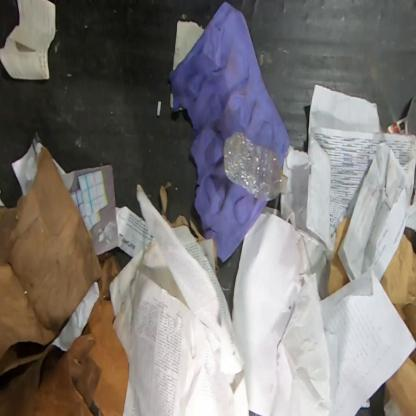cardboard: (383, 347, 415, 415)
rigid_plastic: (224, 130, 290, 203)
